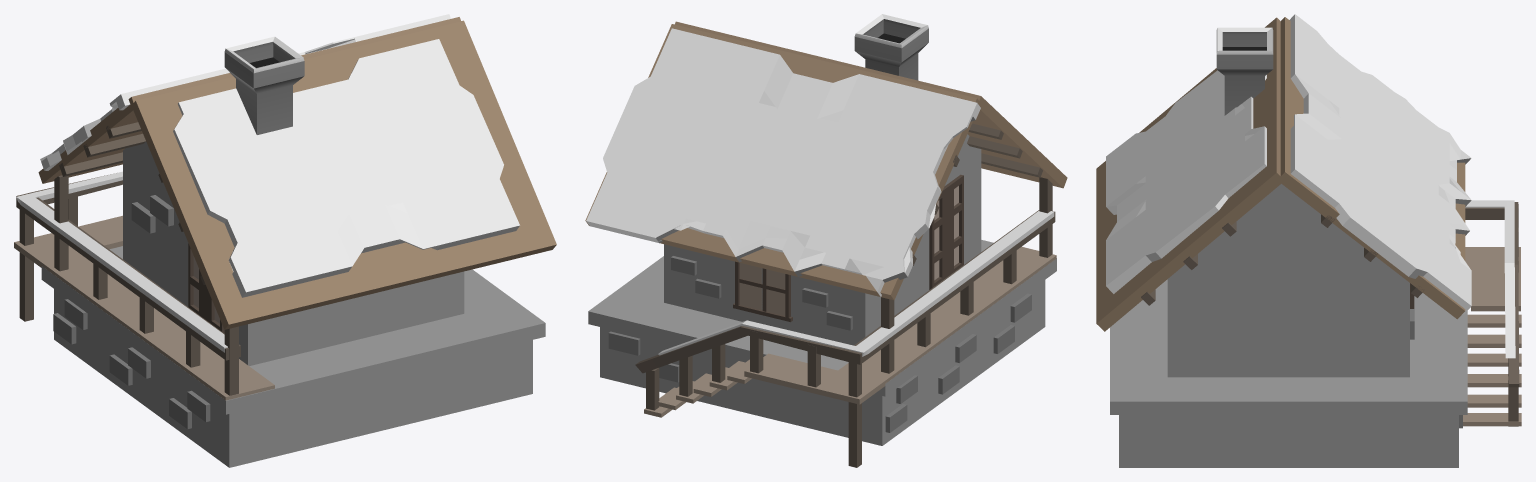
Rendered from snow_house2.fbx.
3 renders of one model, left to right at view 1: azimuth 30°, elevation 25°; view 2: azimuth 150°, elevation 25°; view 3: azimuth 270°, elevation 25°, orthographic. The views are drawn at different scales.
Parts seen in each view (by area): view 1: pCube57, pCube1, pCube31, pCube29, pCube8, pCube32, pCube58, pCube30, pCube56, pCube27, pCube21, pCube41 (+4 smaller); view 2: pCube56, pCube1, pCube29, pCube8, pCube30, pCube58, pCube27, pCube31, pCube32, pCube41, pCube42, pCube21 (+10 smaller); view 3: pCube1, pCube29, pCube56, pCube57, pCube31, pCube30, pCube32, pCube8, pCube58, pCube27, pCube14, pCube13 (+4 smaller).
Boxes of the visible parts, x1,y1,x2,y2 form: pCube57: [173, 39, 519, 297]; pCube1: [41, 246, 545, 467]; pCube31: [133, 20, 556, 329]; pCube29: [123, 142, 464, 365]; pCube8: [14, 215, 274, 400]; pCube32: [224, 36, 304, 134]; pCube58: [16, 171, 227, 352]; pCube30: [38, 17, 460, 183]; pCube56: [40, 14, 450, 170]; pCube27: [16, 174, 240, 360]; pCube21: [19, 210, 33, 321]; pCube41: [188, 243, 224, 333]; pCube56: [586, 28, 980, 296]; pCube1: [588, 240, 1056, 445]; pCube29: [664, 134, 981, 345]; pCube8: [744, 246, 1056, 404]; pCube30: [585, 24, 980, 300]; pCube58: [658, 211, 1054, 356]; pCube27: [635, 210, 1055, 373]; pCube31: [675, 21, 1067, 188]; pCube32: [854, 14, 928, 80]; pCube41: [929, 174, 963, 289]; pCube42: [739, 263, 785, 315]; pCube21: [848, 352, 861, 467]; pCube1: [1110, 279, 1467, 467]; pCube29: [1167, 184, 1409, 377]; pCube56: [1289, 14, 1471, 314]; pCube57: [1106, 70, 1266, 293]; pCube31: [1096, 17, 1283, 331]; pCube30: [1277, 17, 1465, 319]; pCube32: [1216, 27, 1273, 115]; pCube8: [1465, 247, 1520, 311]; pCube58: [1465, 200, 1515, 358]; pCube27: [1465, 202, 1519, 387]; pCube14: [1463, 413, 1521, 426]; pCube13: [1467, 394, 1521, 407].
Size of the model in its own units: 5.01 by 4.82 by 5.58.
